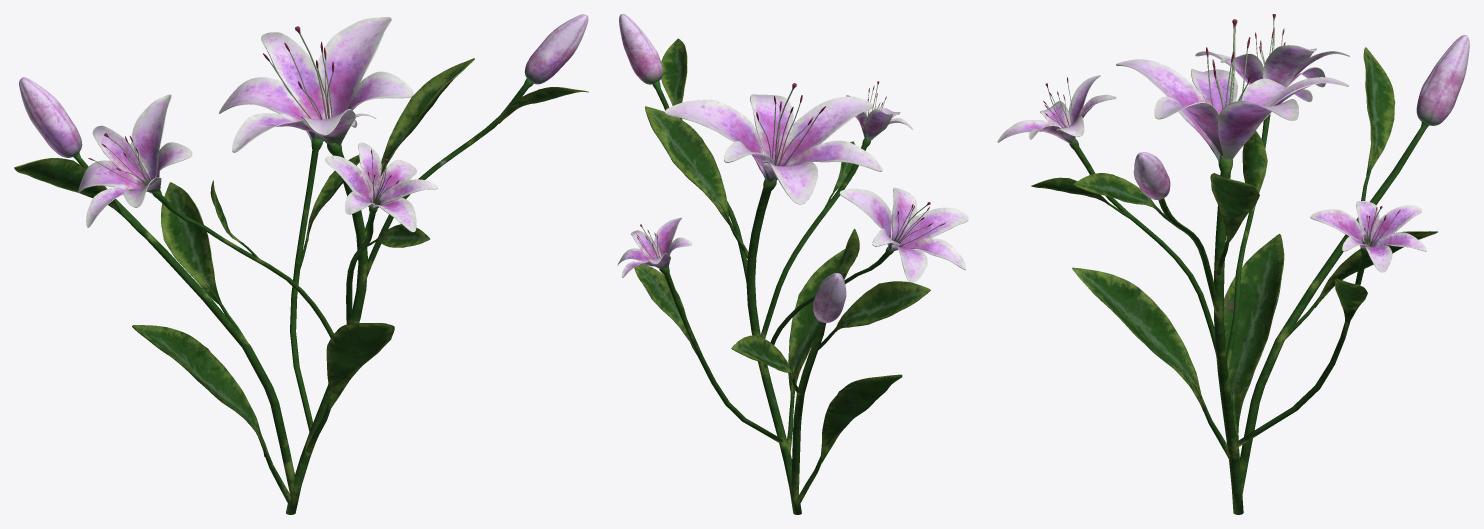
Rendered from lilies.fbx.
The picture shows the model from 3 angles, left to right: view 1: azimuth 30°, elevation 25°; view 2: azimuth 150°, elevation 25°; view 3: azimuth 270°, elevation 25°; orthographic projection. The views are drawn at different scales.
Visible parts, largest first — view 1: Cylinder.008; view 2: Cylinder.008; view 3: Cylinder.008.
Boxes of the visible parts, x1=… form: Cylinder.008: x1=14, y1=14, x2=588, y2=514; Cylinder.008: x1=617, y1=14, x2=968, y2=514; Cylinder.008: x1=997, y1=14, x2=1469, y2=514.
Size of the model in its own units: 258 by 259 by 224.
1 material, 1 textured.
